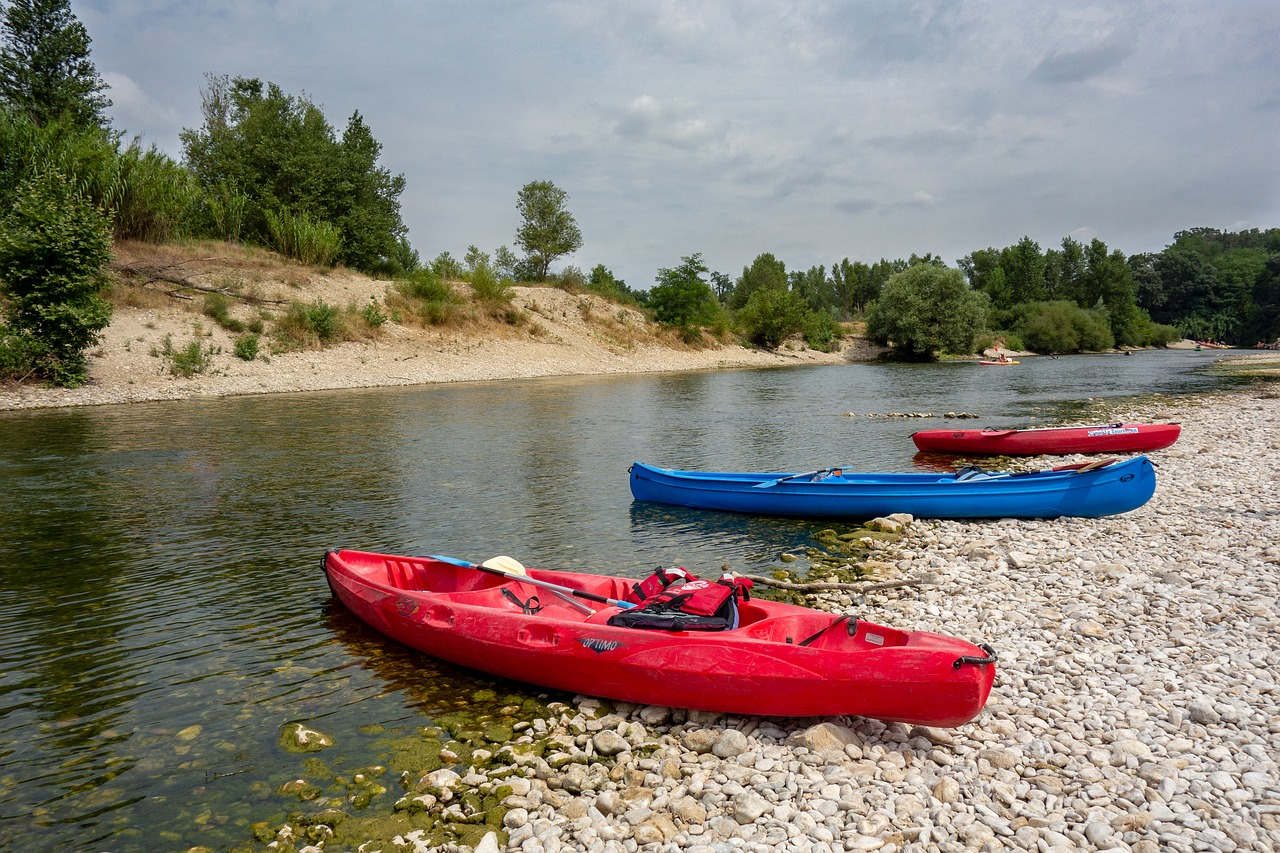kayak: (319, 537, 1002, 732), (625, 453, 1159, 529), (904, 418, 1188, 464)
